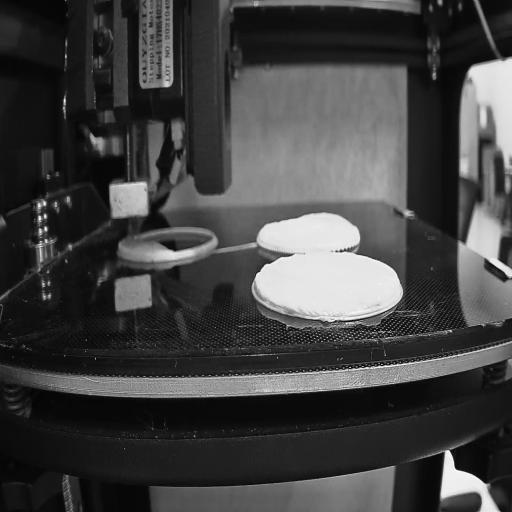over_extrusion: (252, 269, 271, 306)
